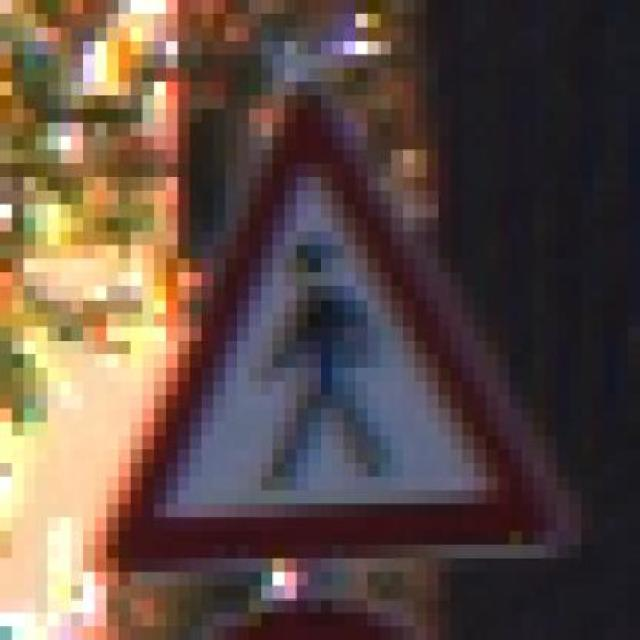Pedestrian Crossing: (59, 68, 581, 572)
